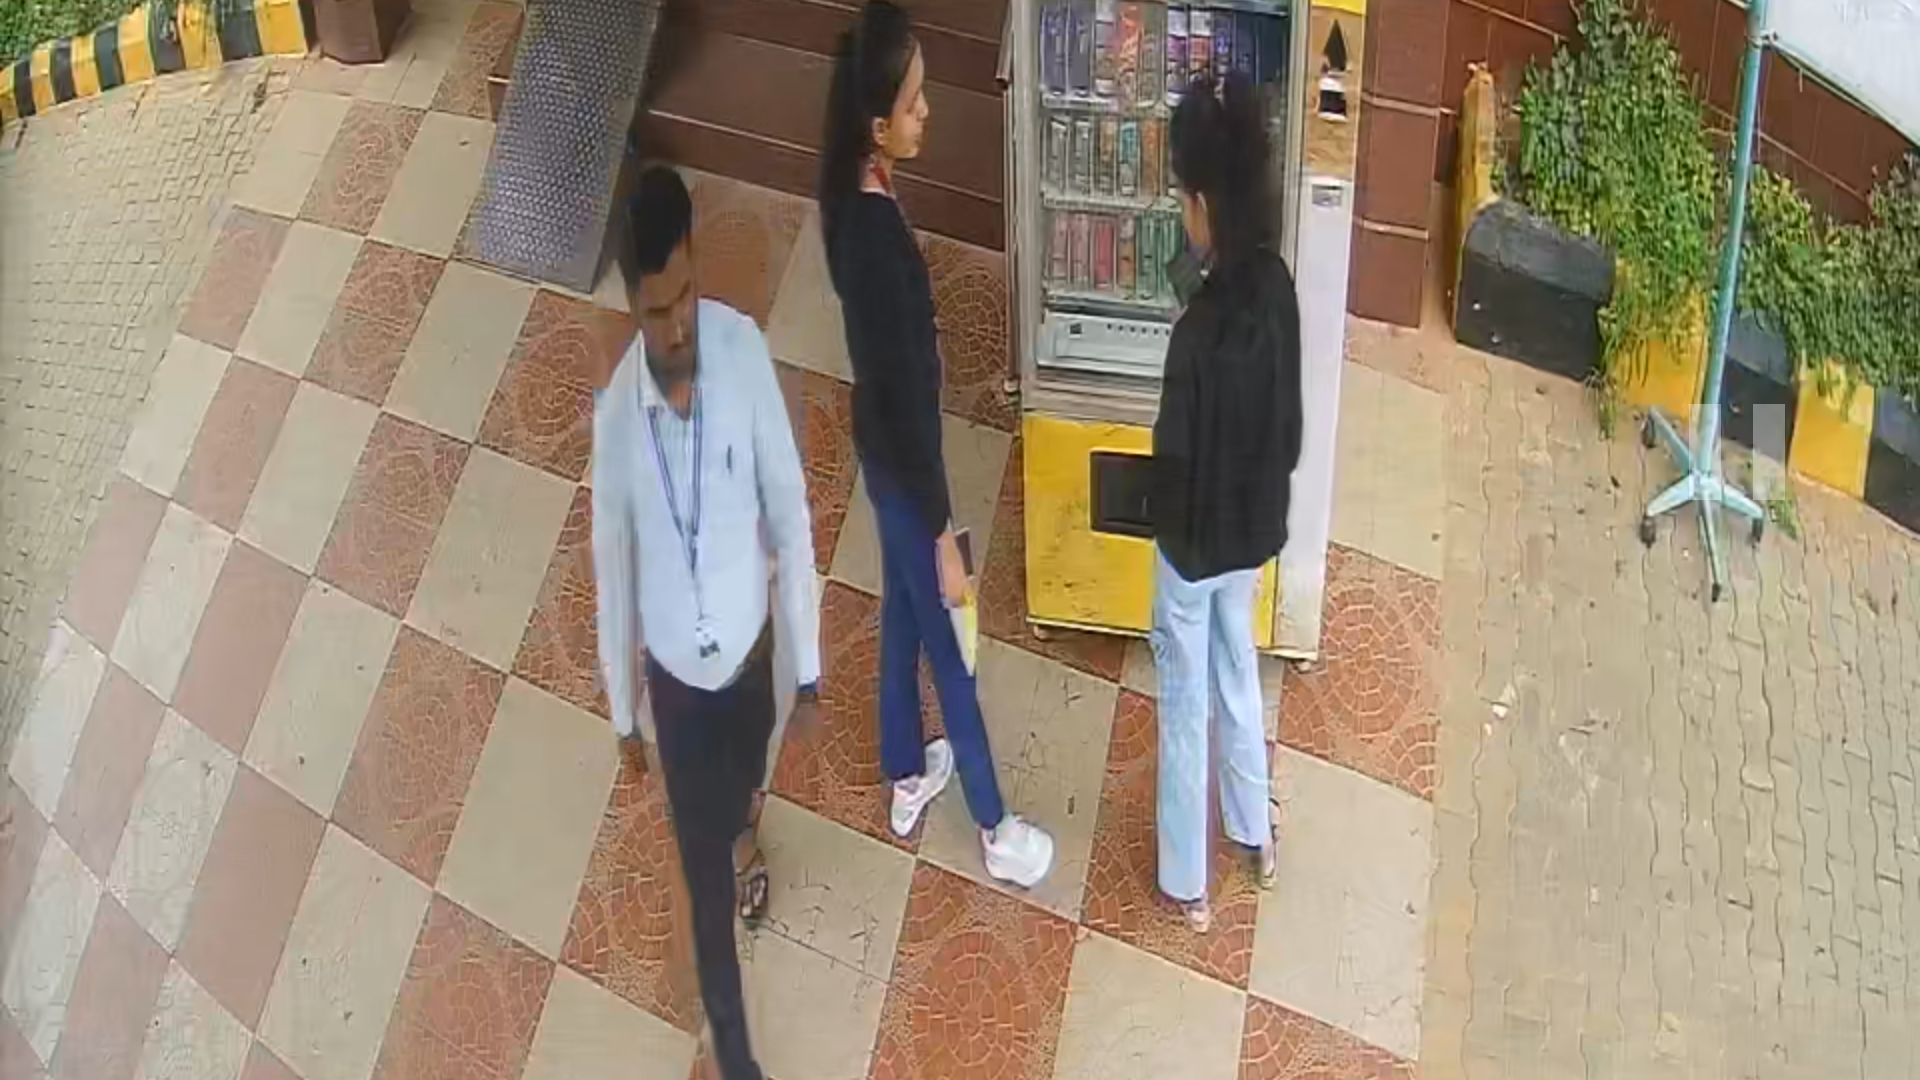not intruder: (588, 157, 822, 1072)
